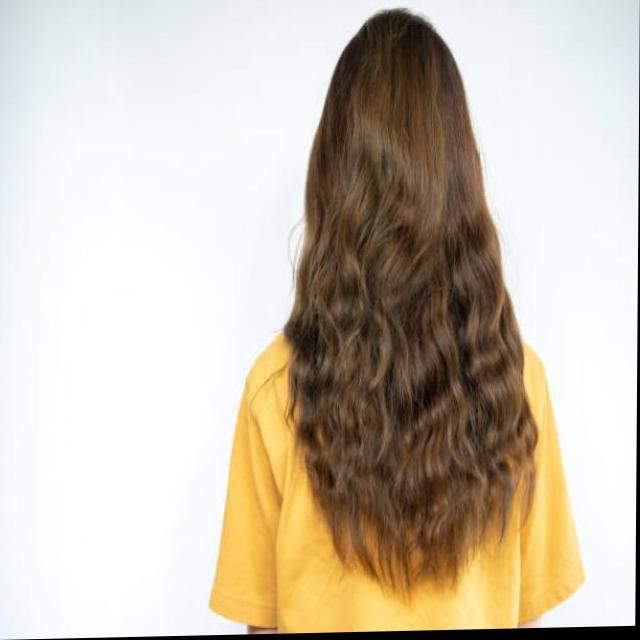no helmet: (302, 11, 489, 352)
